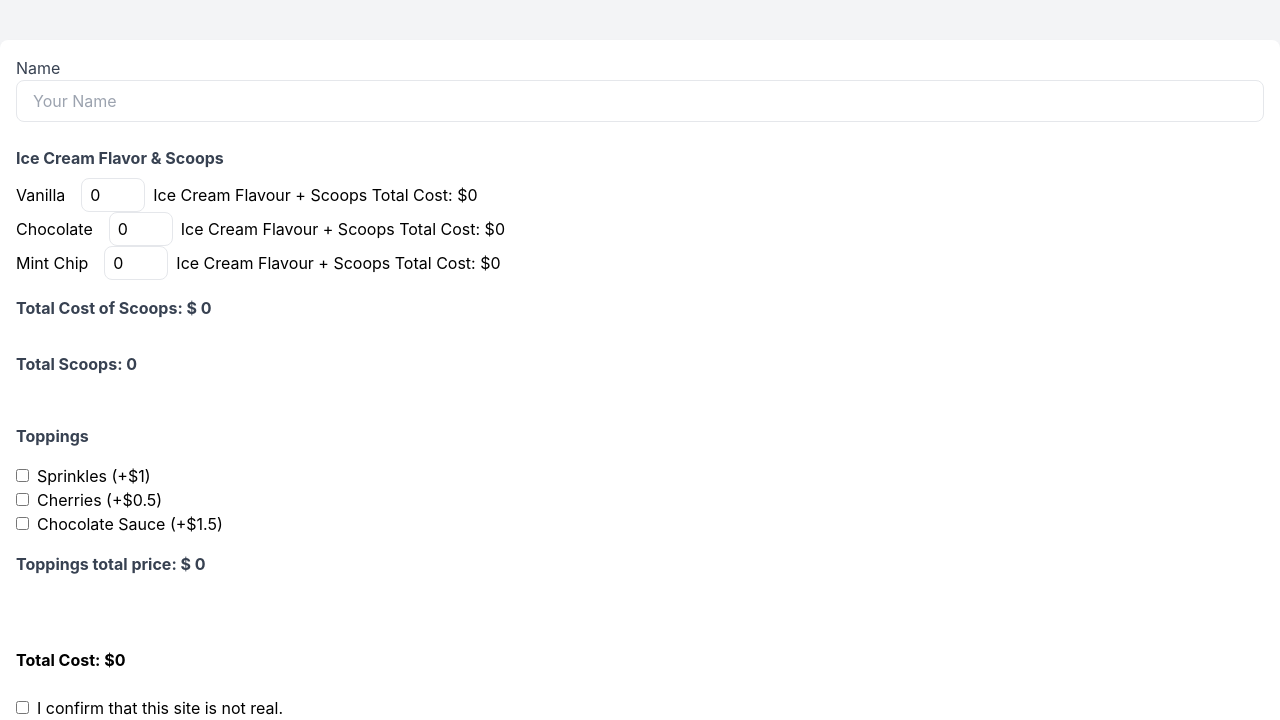
Scenario: total cost of toppings updates when toppings change
The width and height of the screenshot is (1280, 720).
Expected: the text "Toppings total price: $ 0" is shown, 16,554 -> 206,574
Step 1. Click the checkbox labelled "Cherries (+$0.5)" → (22, 500), box 16,493 -> 29,506
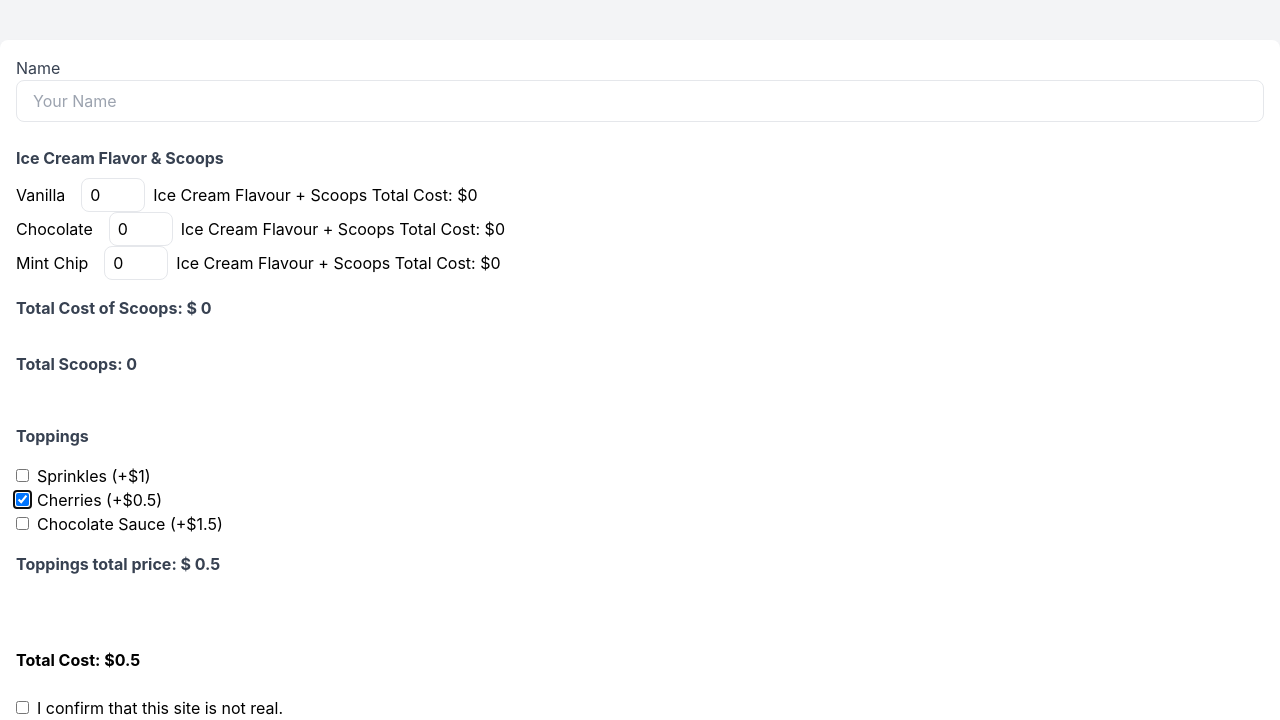
Now the text "Toppings total price: $ 0.5" is shown, box 16,554 -> 220,574
